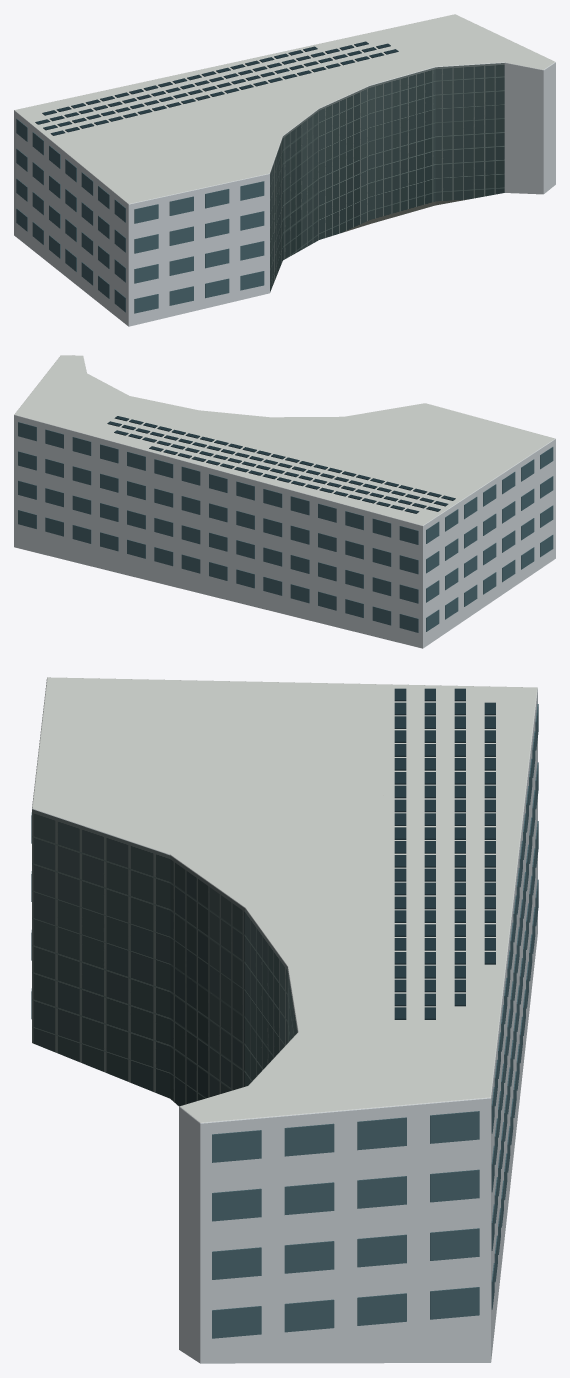
The model's file is fragments.glb.
3 views of the same model, one above another, from view 1: azimuth 30°, elevation 25°; view 2: azimuth 150°, elevation 25°; view 3: azimuth 270°, elevation 25° (orthographic). The views are drawn at different scales.
Visible parts, largest first — view 1: SM_sculpture_Fragment_047, SM_sculpture_Fragment_004, SM_sculpture_Fragment_031, SM_sculpture_Fragment_033, SM_sculpture_Fragment_015, SM_sculpture_Fragment_038, SM_sculpture_Fragment_000, SM_sculpture_Fragment_058, SM_sculpture_Fragment_016, SM_sculpture_Fragment_056, SM_sculpture_Fragment_026, SM_sculpture_Fragment_052 (+30 smaller); view 2: SM_sculpture_Fragment_002, SM_sculpture_Fragment_055, SM_sculpture_Fragment_023, SM_sculpture_Fragment_009, SM_sculpture_Fragment_038, SM_sculpture_Fragment_052, SM_sculpture_Fragment_036, SM_sculpture_Fragment_059, SM_sculpture_Fragment_020, SM_sculpture_Fragment_010, SM_sculpture_Fragment_041, SM_sculpture_Fragment_012 (+28 smaller); view 3: SM_sculpture_Fragment_040, SM_sculpture_Fragment_001, SM_sculpture_Fragment_029, SM_sculpture_Fragment_011, SM_sculpture_Fragment_000, SM_sculpture_Fragment_023, SM_sculpture_Fragment_063, SM_sculpture_Fragment_021, SM_sculpture_Fragment_013, SM_sculpture_Fragment_048, SM_sculpture_Fragment_010, SM_sculpture_Fragment_039 (+25 smaller).
Part boxes in pixels (left/top/right/bottom): SM_sculpture_Fragment_047: left=178, top=216, right=266, bottom=308; SM_sculpture_Fragment_004: left=90, top=215, right=178, bottom=326; SM_sculpture_Fragment_031: left=343, top=60, right=429, bottom=145; SM_sculpture_Fragment_033: left=423, top=43, right=513, bottom=110; SM_sculpture_Fragment_015: left=126, top=162, right=229, bottom=248; SM_sculpture_Fragment_038: left=65, top=143, right=150, bottom=236; SM_sculpture_Fragment_000: left=211, top=150, right=277, bottom=230; SM_sculpture_Fragment_058: left=106, top=183, right=176, bottom=257; SM_sculpture_Fragment_016: left=321, top=138, right=392, bottom=233; SM_sculpture_Fragment_056: left=265, top=86, right=357, bottom=178; SM_sculpture_Fragment_026: left=413, top=99, right=489, bottom=171; SM_sculpture_Fragment_052: left=14, top=106, right=93, bottom=198; SM_sculpture_Fragment_002: left=369, top=526, right=449, bottom=644; SM_sculpture_Fragment_055: left=45, top=457, right=120, bottom=551; SM_sculpture_Fragment_023: left=344, top=475, right=445, bottom=552; SM_sculpture_Fragment_009: left=262, top=475, right=363, bottom=543; SM_sculpture_Fragment_038: left=451, top=449, right=534, bottom=532; SM_sculpture_Fragment_052: left=405, top=481, right=482, bottom=572; SM_sculpture_Fragment_036: left=168, top=451, right=256, bottom=520; SM_sculpture_Fragment_059: left=100, top=423, right=185, bottom=490; SM_sculpture_Fragment_020: left=312, top=531, right=372, bottom=617; SM_sculpture_Fragment_010: left=56, top=401, right=148, bottom=464; SM_sculpture_Fragment_041: left=208, top=474, right=271, bottom=559; SM_sculpture_Fragment_012: left=445, top=513, right=507, bottom=623; SM_sculpture_Fragment_040: left=179, top=1174, right=375, bottom=1302; SM_sculpture_Fragment_001: left=269, top=1066, right=415, bottom=1223; SM_sculpture_Fragment_029: left=357, top=1145, right=495, bottom=1348; SM_sculpture_Fragment_011: left=32, top=913, right=150, bottom=1088; SM_sculpture_Fragment_000: left=31, top=763, right=158, bottom=920; SM_sculpture_Fragment_023: left=336, top=702, right=535, bottom=818; SM_sculpture_Fragment_063: left=79, top=884, right=203, bottom=1051; SM_sculpture_Fragment_021: left=179, top=1250, right=334, bottom=1363; SM_sculpture_Fragment_013: left=306, top=1266, right=494, bottom=1363; SM_sculpture_Fragment_048: left=108, top=807, right=256, bottom=915; SM_sculpture_Fragment_010: left=315, top=990, right=500, bottom=1115; SM_sculpture_Fragment_039: left=395, top=1055, right=497, bottom=1180.
Size of the model in its own units: 2.2 by 0.6276 by 1.06.
Materials: 6 (1 with a texture image).
